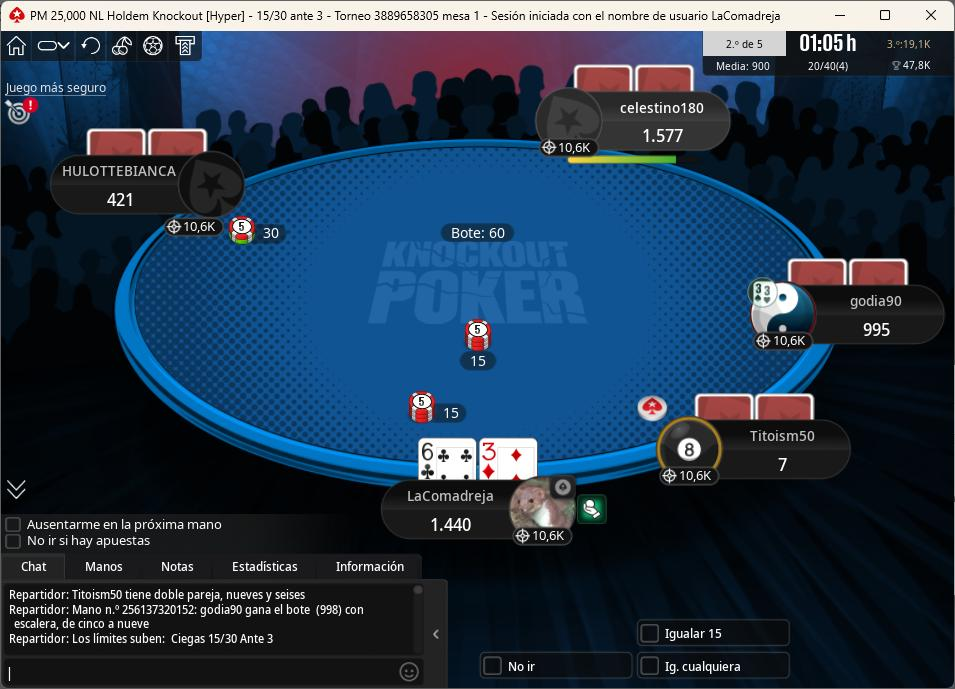Dealer: (635, 395, 673, 425)
HiddenCards: (692, 393, 822, 423), (83, 132, 212, 160), (786, 258, 913, 286), (574, 67, 697, 95)
Player: (745, 284, 951, 352), (657, 421, 857, 487), (543, 90, 734, 159), (52, 151, 250, 215)
PlayerBet: (230, 216, 294, 247)
PlayerChips: (633, 125, 692, 144), (858, 322, 902, 342), (99, 191, 139, 211), (772, 454, 799, 475)
Pot: (438, 223, 518, 244)
PreButtonCall: (636, 620, 794, 646)
PreButtonCallAny: (640, 652, 800, 683)
PreButtonFold: (480, 647, 637, 688)
PrincipalBet: (406, 392, 473, 427)
PrincipalCards: (412, 436, 543, 483)
PrincipalCards1: (415, 433, 479, 486)
PrincipalCards2: (478, 434, 540, 481)
PrincipalPlayer: (385, 475, 590, 552)
PrincipalPlayerChips: (421, 518, 482, 537)
SmallBigBlind: (248, 7, 334, 26)
TablePot: (456, 318, 519, 380)
